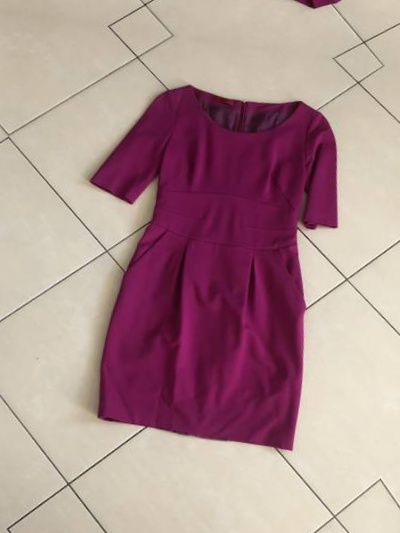Dress: (58, 50, 379, 476), (120, 0, 400, 42)
